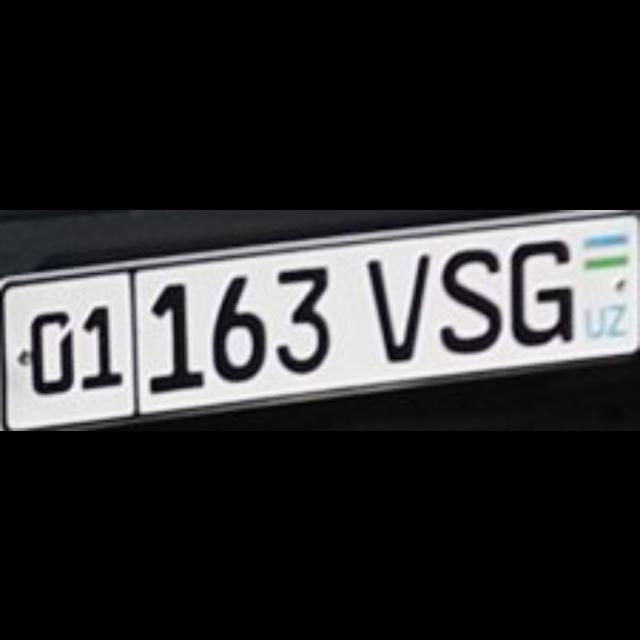0: (26, 309, 68, 391)
1: (145, 280, 199, 392), (77, 304, 117, 388)
3: (273, 263, 327, 371)
6: (211, 272, 265, 380)
G: (504, 238, 568, 342)
S: (438, 246, 498, 352)
V: (364, 252, 426, 356)
